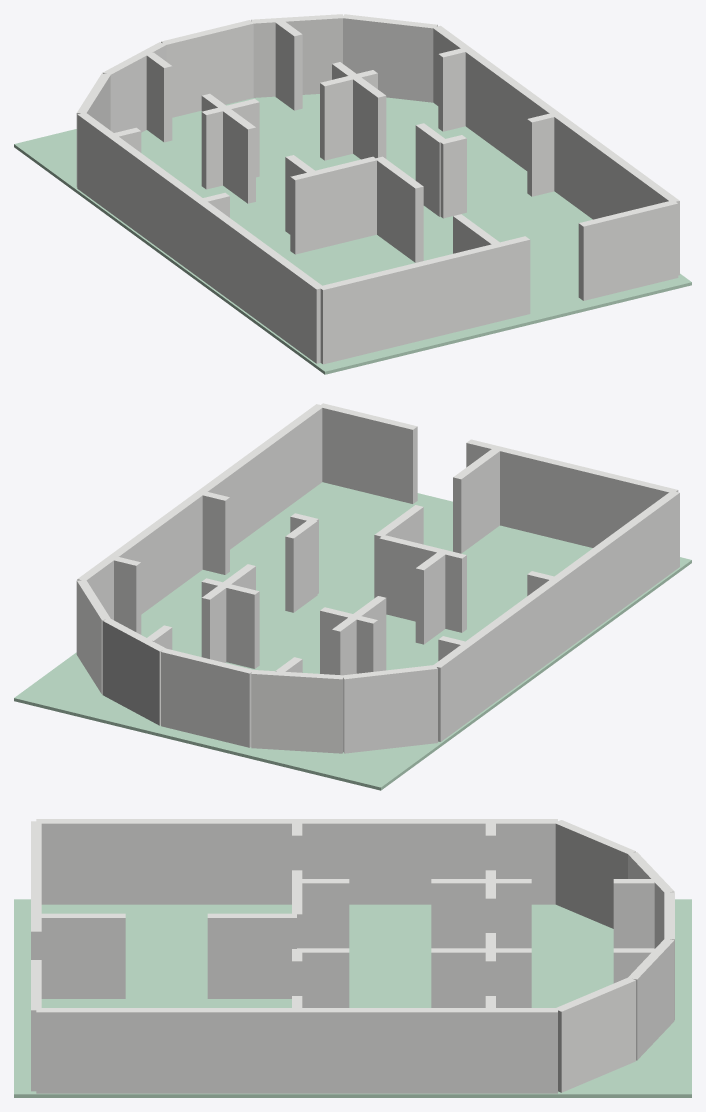
The model's file is ussr_mansion_map.glb.
3 views of the same model, one above another, from view 1: azimuth 30°, elevation 25°; view 2: azimuth 150°, elevation 25°; view 3: azimuth 270°, elevation 25° (orthographic). The views are drawn at different scales.
Parts seen in each view (by area): view 1: Floor, Outer_S_L, Outer_SW, Outer_NW, Outer_S_R, Outer_SSE, Outer_SE, Outer_NTM, Outer_NER, H_Mid_C_A, Outer_NTR, V_Bot_B (+16 smaller); view 2: Floor, Outer_S_L, Outer_NW, Outer_SW, Outer_SSE, Outer_S_R, Outer_NWL, Outer_NTL, Outer_NTM, Outer_SE, Outer_NTR, V_Bot_A (+14 smaller); view 3: Floor, Outer_SE, Outer_SSE, Outer_SW, Outer_NW, V_Bot_B, V_Bot_A, Outer_NER, Outer_NWL, V_Mid_L_B, Outer_NTR, V_Mid_L_A (+16 smaller).
Part boxes in pixels (x1,y1,x2,y2): Floor: [14, 94, 691, 374]; Outer_S_L: [319, 236, 530, 364]; Outer_SW: [197, 200, 324, 363]; Outer_NW: [77, 112, 204, 275]; Outer_S_R: [578, 200, 678, 300]; Outer_SSE: [554, 113, 679, 275]; Outer_SE: [433, 25, 559, 170]; Outer_NTM: [161, 20, 254, 117]; Outer_NER: [343, 14, 437, 102]; H_Mid_C_A: [311, 156, 377, 249]; Outer_NTR: [251, 14, 343, 97]; V_Bot_B: [376, 156, 423, 262]; Floor: [14, 482, 691, 790]; Outer_S_L: [466, 439, 678, 547]; Outer_NW: [433, 578, 560, 741]; Outer_SW: [553, 490, 679, 654]; Outer_SSE: [197, 404, 324, 549]; Outer_S_R: [321, 403, 417, 503]; Outer_NWL: [342, 665, 437, 753]; Outer_NTL: [251, 670, 343, 753]; Outer_NTM: [161, 648, 253, 747]; Outer_SE: [77, 491, 204, 619]; Outer_NTR: [102, 619, 166, 725]; V_Bot_A: [453, 448, 501, 553]; Floor: [14, 899, 691, 1097]; Outer_SE: [297, 1008, 557, 1093]; Outer_SSE: [36, 1008, 296, 1093]; Outer_SW: [36, 819, 296, 904]; Outer_NW: [297, 819, 557, 904]; V_Bot_B: [207, 913, 296, 998]; V_Bot_A: [36, 913, 125, 998]; Outer_NER: [554, 977, 635, 1092]; Outer_NWL: [555, 820, 635, 928]; V_Mid_L_B: [431, 879, 490, 948]; Outer_NTR: [628, 939, 674, 1060]; V_Mid_L_A: [298, 879, 349, 948].
Size of the model in its own units: 12.4 by 2.5 by 18.2.
